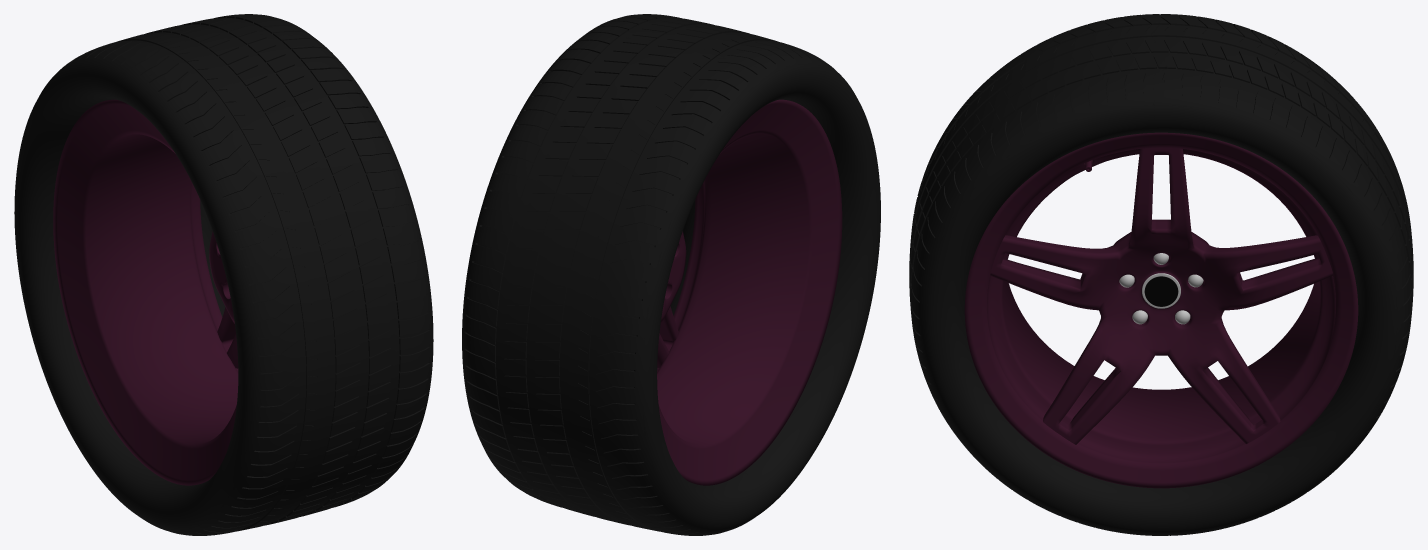
File: wheel.glb
The picture shows the model from 3 angles, left to right: view 1: azimuth 30°, elevation 25°; view 2: azimuth 150°, elevation 25°; view 3: azimuth 270°, elevation 25°; orthographic projection.
Parts seen in each view (by area): view 1: tire; view 2: tire; view 3: tire.
Part boxes in pixels (bbox=[...]): tire: bbox=[14, 14, 433, 535]; tire: bbox=[462, 14, 880, 535]; tire: bbox=[909, 14, 1413, 535].
Size of the model in its own units: 29.94 by 69.93 by 69.94.
Materials: 2 (1 with a texture image).
